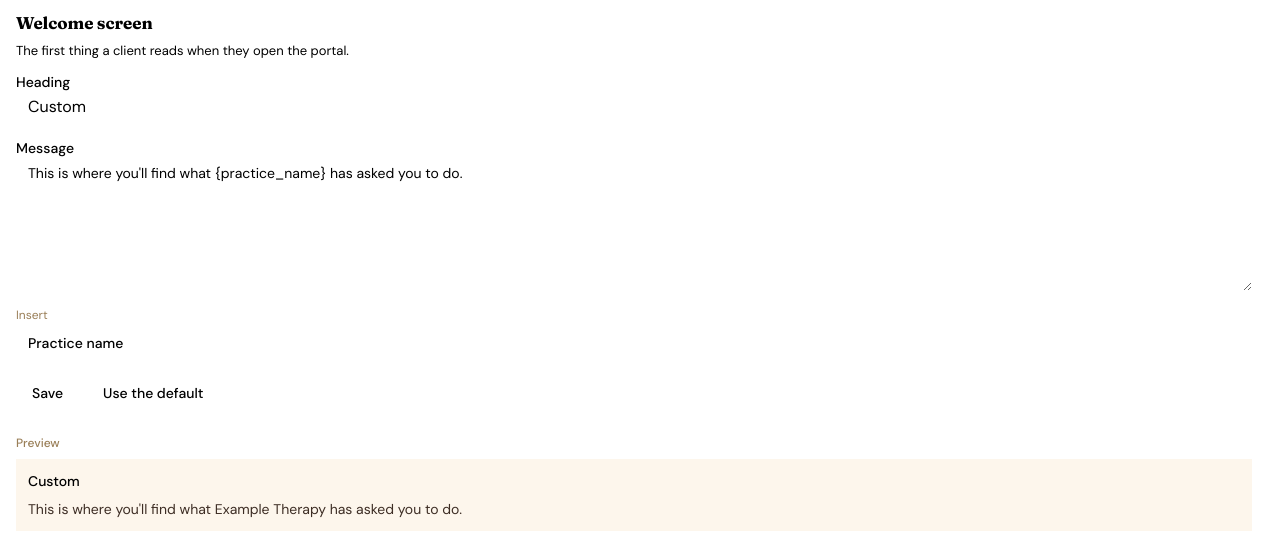
Scenario: PortalWelcomeCard › goes back to the default
What coordinates should you click on to do the following:
click the button "Use the default"
I would click on:
 (153, 393)
Its box is [87, 375, 220, 411].
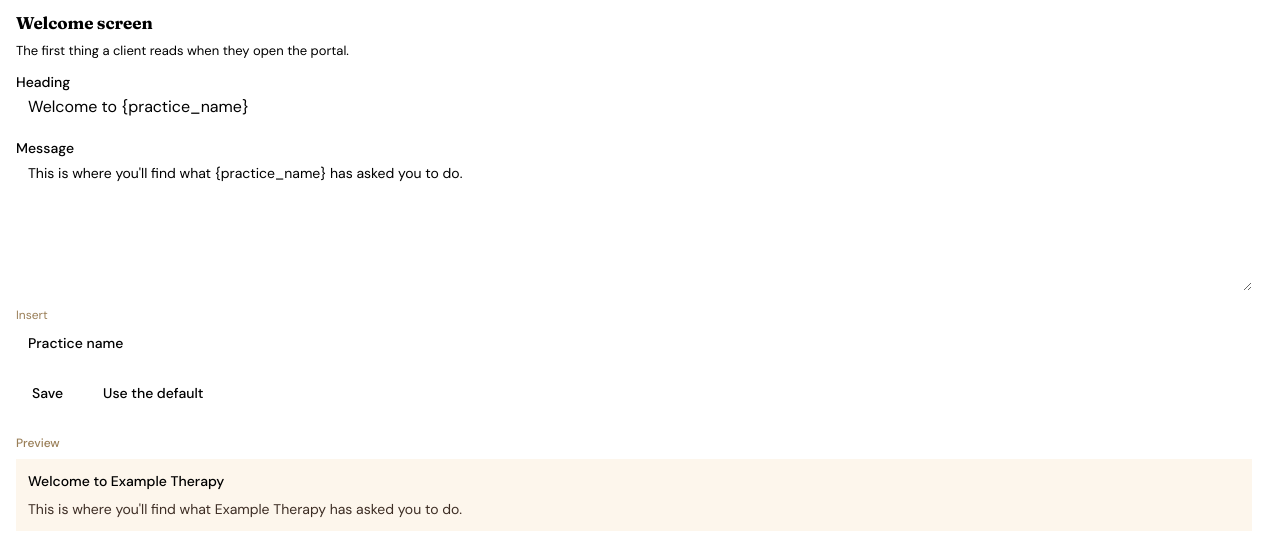
Result: the field labelled "Heading" holds "Welcome to {practice_name}" at [16, 89, 1252, 125]
